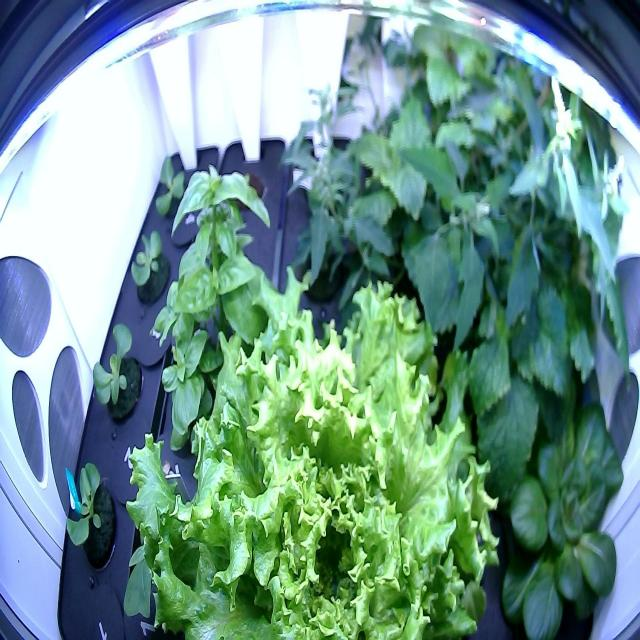Ready: (478, 362, 640, 638)
young: (52, 455, 122, 587), (85, 314, 146, 437), (124, 217, 175, 313), (148, 148, 197, 231)
